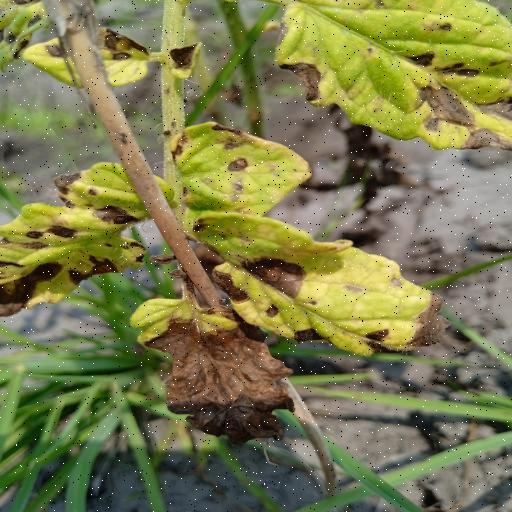Tomato_Brown_Spots: (189, 210, 449, 358), (273, 0, 512, 152), (0, 160, 177, 320), (161, 122, 311, 221)
